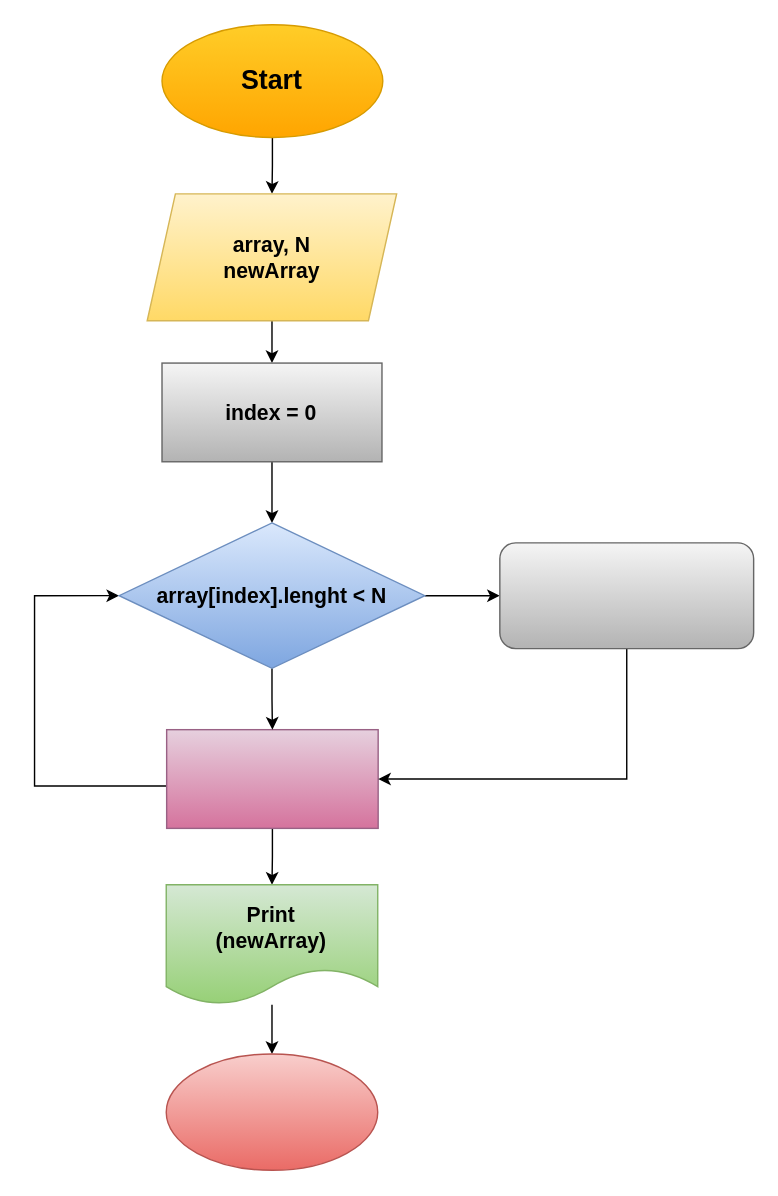
Some shapes in this 778 by 1196 pixel diagram are drawn without their labels. Here are the shapes that lost their labels. From the top down, the centre of each, then its label:
At pixel 626 595: "newArray = array[index]".
At pixel 271 778: "index = index + 1".
At pixel 271 1111: "End".
